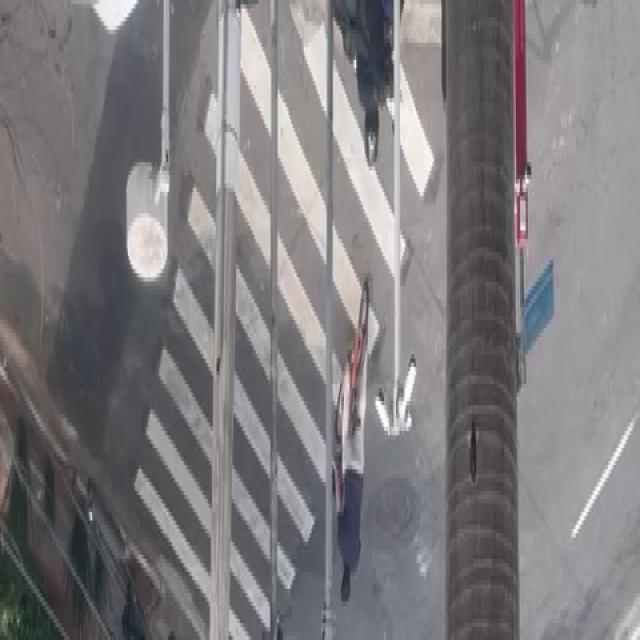bicycle: (328, 277, 377, 611)
motorbike: (341, 0, 406, 167)
